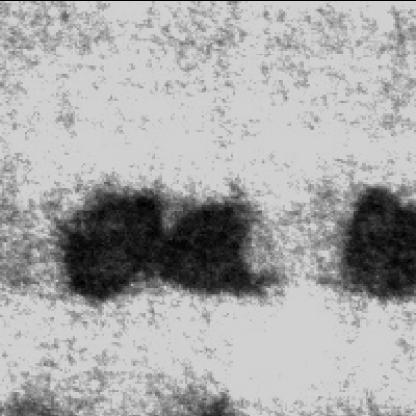patches: (62, 181, 268, 302), (348, 181, 416, 299)
